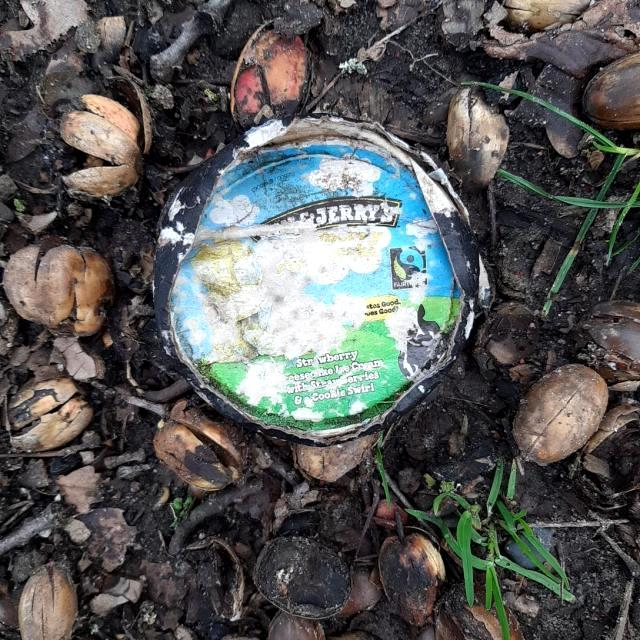Paper: (146, 108, 496, 448)
